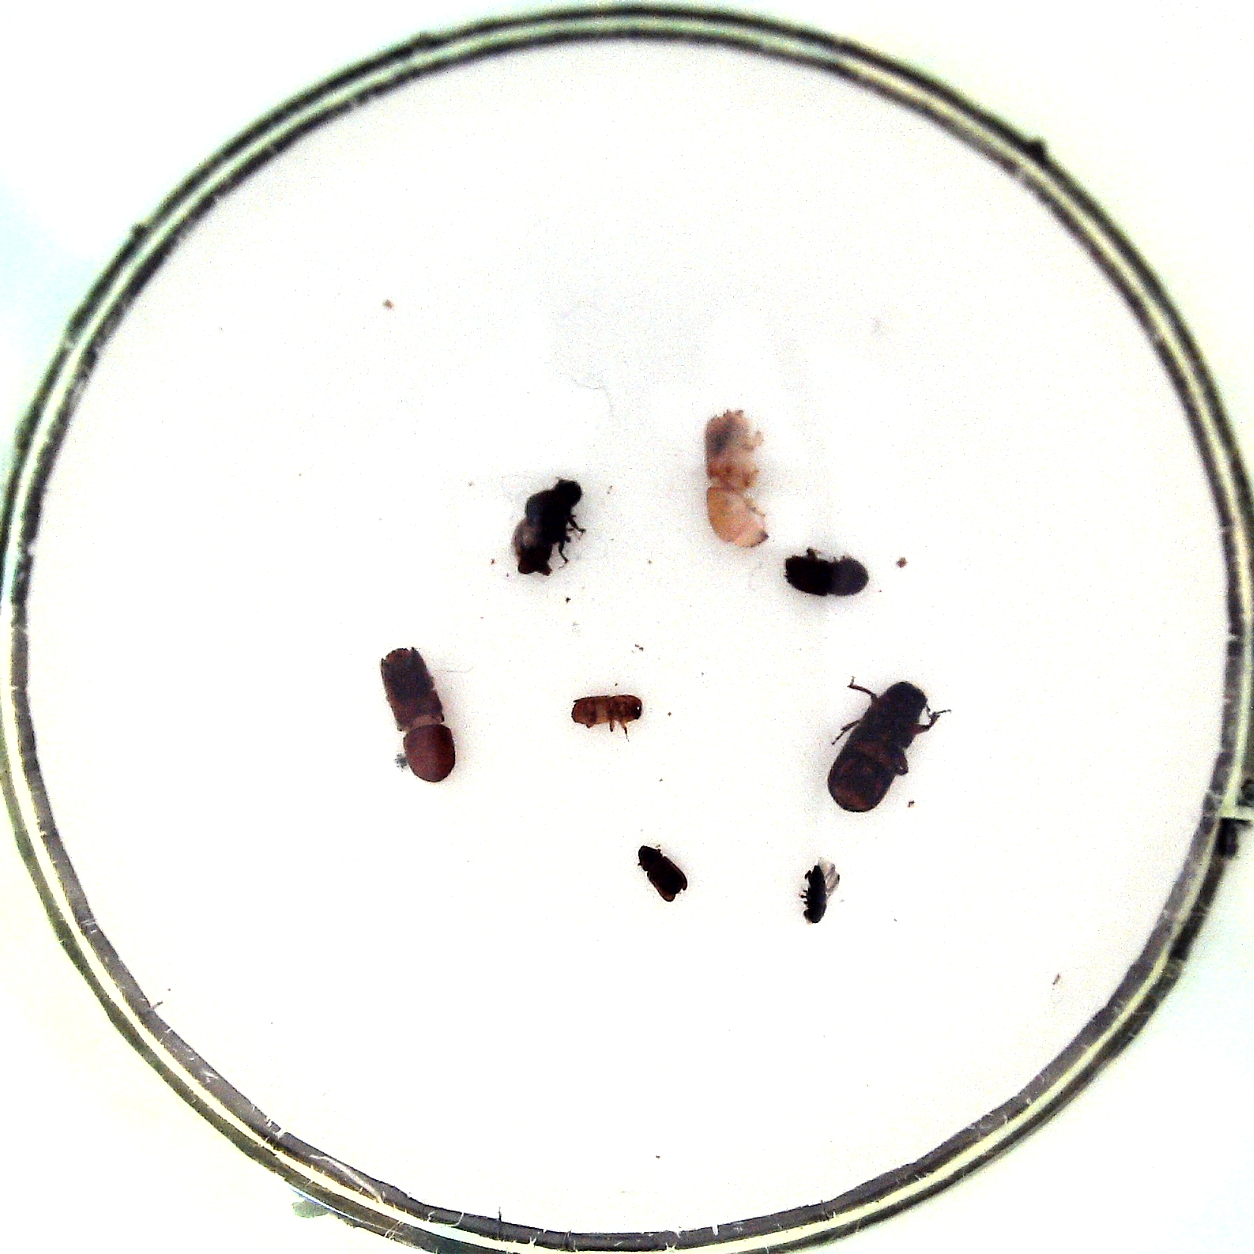Boerner: (380, 647, 455, 782), (706, 410, 771, 547)
Leconte: (827, 682, 927, 813)
acuminatus: (803, 864, 826, 923)
armandi: (514, 479, 581, 575)
coleoptera: (638, 845, 687, 901), (571, 692, 641, 726)
linnaeus: (784, 555, 868, 597)
